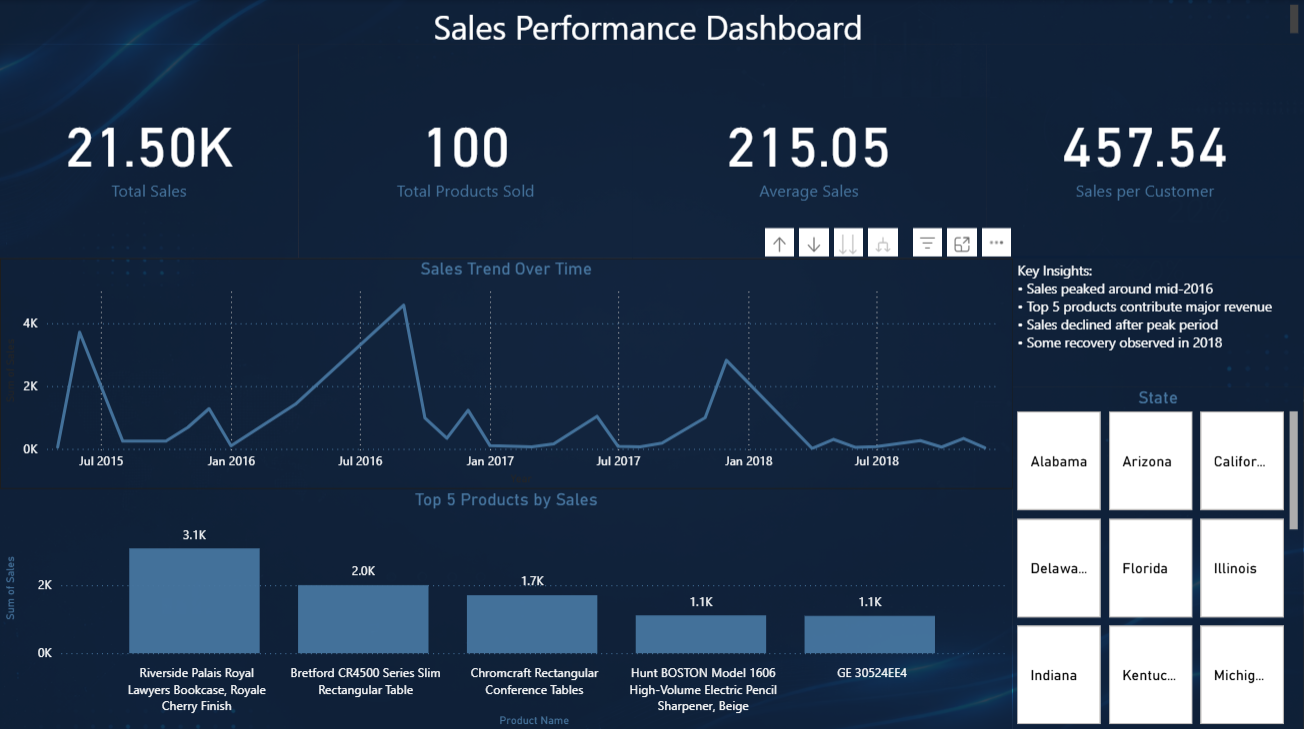

Layout of this report page (visuals, bound fields, positions):
{"tool":"powerbi","page":{"name":"Sales Insights Dashboard","canvas":[1280,720],"ordinal":0},"visuals":[{"type":"card","fields":{"Values":["train.Total Sales"]},"box":[0,44.4,293.2,209.8],"z":0},{"type":"card","fields":{"Values":["train.Average Sales"]},"box":[621.3,44.4,347,209.8],"z":1000},{"type":"card","fields":{"Values":["train.Sales per Customer"]},"box":[968.3,44.4,312,209.8],"z":2000},{"type":"card","fields":{"Values":["train.Total Products Sold"]},"box":[293.2,44.4,328.1,209.8],"z":3000},{"type":"lineChart","title":"Sales Trend Over Time","fields":{"Y":["Sum(train.Sales)"],"Category":["train.Order Date.Variation.Date Hierarchy.Year","train.Order Date.Variation.Date Hierarchy.Month"]},"box":[0,254.2,993.8,227.3],"z":4000},{"type":"clusteredColumnChart","title":"Top 5 Products by Sales","fields":{"Category":["train.Product Name"],"Y":["Sum(train.Sales)"]},"box":[0,481.4,993.8,238],"z":5000},{"type":"advancedSlicerVisual","fields":{"Values":["train.State"]},"box":[993.9,380.4,285.9,338.7],"z":6000},{"type":"textbox","box":[993.8,251.5,286.4,129.1],"z":7000},{"type":"textbox","box":[0,0,1279.8,44.2],"z":8000}]}

Visuals, with their boxes in screenshot pixels (x1, y1, x2, y2), scaled from the page's 1280x720 canvas onto the 1304x729 screenshot:
card - train.Total Sales: locate(0, 45, 299, 257)
card - train.Average Sales: locate(633, 45, 986, 257)
card - train.Sales per Customer: locate(986, 45, 1303, 257)
card - train.Total Products Sold: locate(299, 45, 633, 257)
"Sales Trend Over Time" lineChart: locate(0, 257, 1012, 488)
"Top 5 Products by Sales" clusteredColumnChart: locate(0, 487, 1012, 728)
advancedSlicerVisual - train.State: locate(1013, 385, 1303, 728)
textbox: locate(1012, 255, 1303, 385)
textbox: locate(0, 0, 1303, 45)
